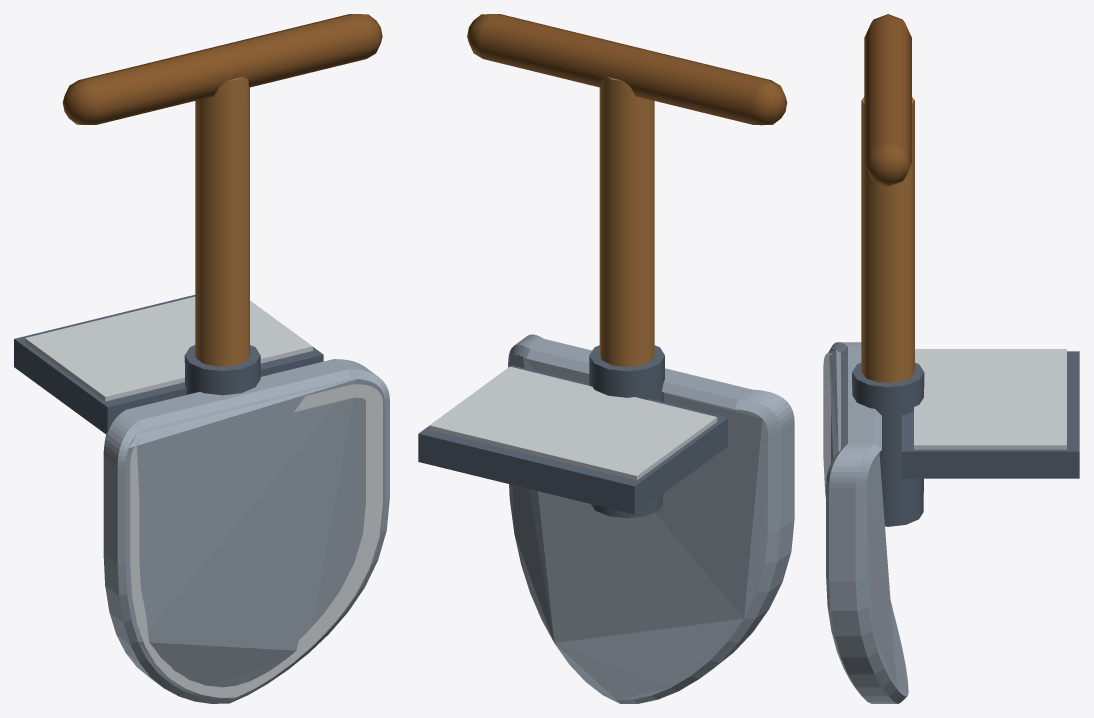
Rendered from shovel.glb.
The picture shows the model from 3 angles, left to right: view 1: azimuth 30°, elevation 25°; view 2: azimuth 150°, elevation 25°; view 3: azimuth 270°, elevation 25°; orthographic projection. The views are drawn at different scales.
Visible parts, largest first — view 1: shovel_mesh; view 2: shovel_mesh; view 3: shovel_mesh.
Boxes of the visible parts, left/top/right/bottom form: shovel_mesh: left=14, top=14, right=389, bottom=703; shovel_mesh: left=418, top=14, right=794, bottom=703; shovel_mesh: left=823, top=14, right=1079, bottom=703.
Bounding box in the file's own units: 0.522 × 1.04 × 0.3884.
